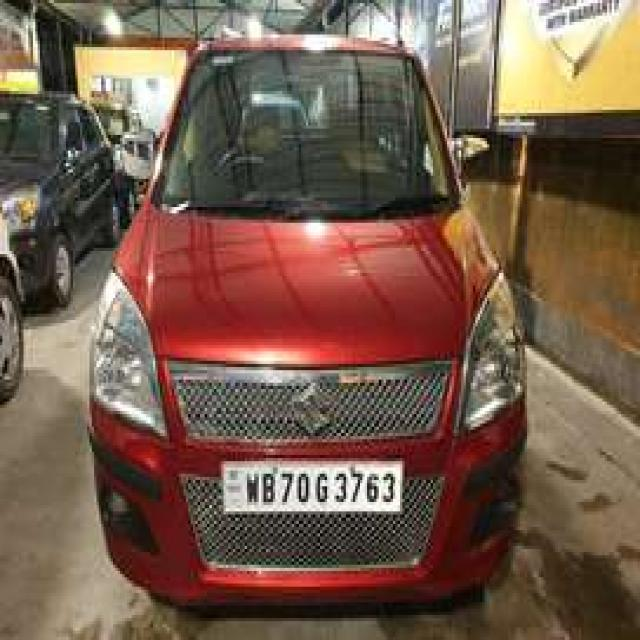Plate: (220, 456, 401, 509)
